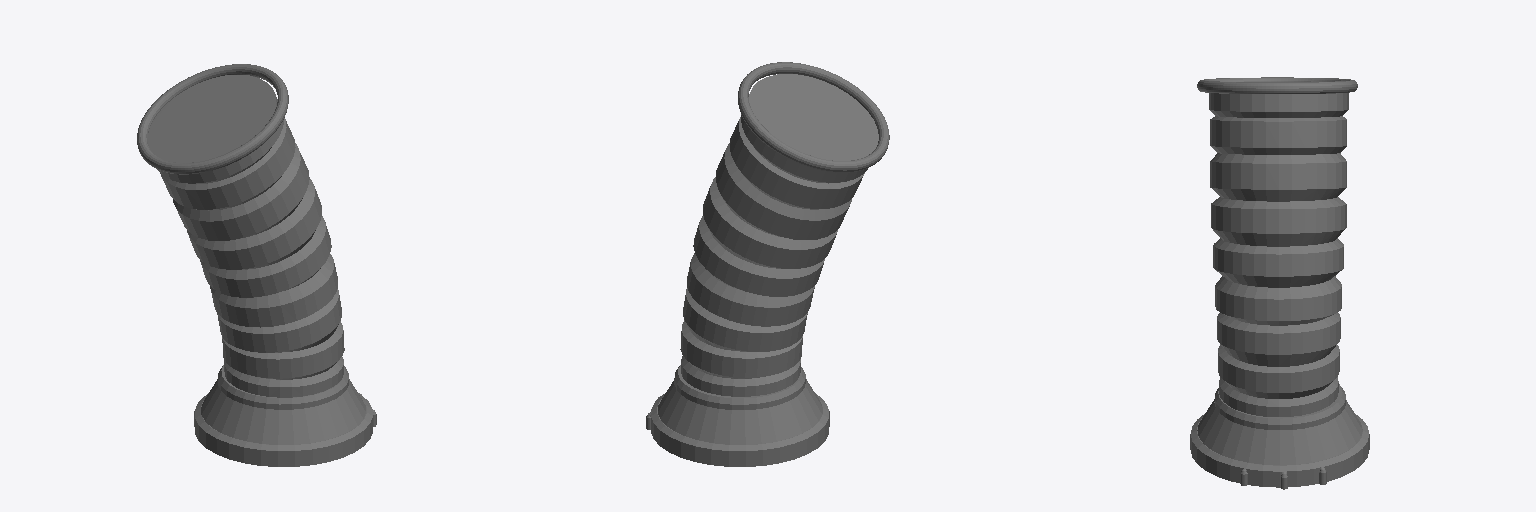
The model's file is PataIzqDelGoddard_obj.obj.
The picture shows the model from 3 angles: view 1: azimuth 30°, elevation 25°; view 2: azimuth 150°, elevation 25°; view 3: azimuth 270°, elevation 25°; orthographic projection.
Visible parts, largest first — view 1: PataIzqDel, C_rculo_012_C_rculo_013, C_rculo_011_C_rculo_012, C_rculo_001, C_rculo_013_C_rculo_014; view 2: PataIzqDel, C_rculo_012_C_rculo_013, C_rculo_011_C_rculo_012, C_rculo_001, C_rculo_013_C_rculo_014; view 3: PataIzqDel, C_rculo_012_C_rculo_013, C_rculo_011_C_rculo_012, C_rculo_001, C_rculo_013_C_rculo_014.
Part boxes in pixels (x1,y1,x2,y2): PataIzqDel: (148,75,344,397); C_rculo_012_C_rculo_013: (201,379,365,444); C_rculo_011_C_rculo_012: (194,393,372,466); C_rculo_001: (137,64,288,174); C_rculo_013_C_rculo_014: (218,365,348,409); PataIzqDel: (680,74,878,396); C_rculo_012_C_rculo_013: (658,379,822,444); C_rculo_011_C_rculo_012: (651,393,829,466); C_rculo_001: (738,62,889,172); C_rculo_013_C_rculo_014: (674,365,805,409); PataIzqDel: (1209,93,1348,416); C_rculo_012_C_rculo_013: (1197,399,1362,464); C_rculo_011_C_rculo_012: (1190,414,1369,487); C_rculo_001: (1197,77,1357,93); C_rculo_013_C_rculo_014: (1215,384,1345,429).
Size of the model in its own units: 1.45 by 2.29 by 1.03.